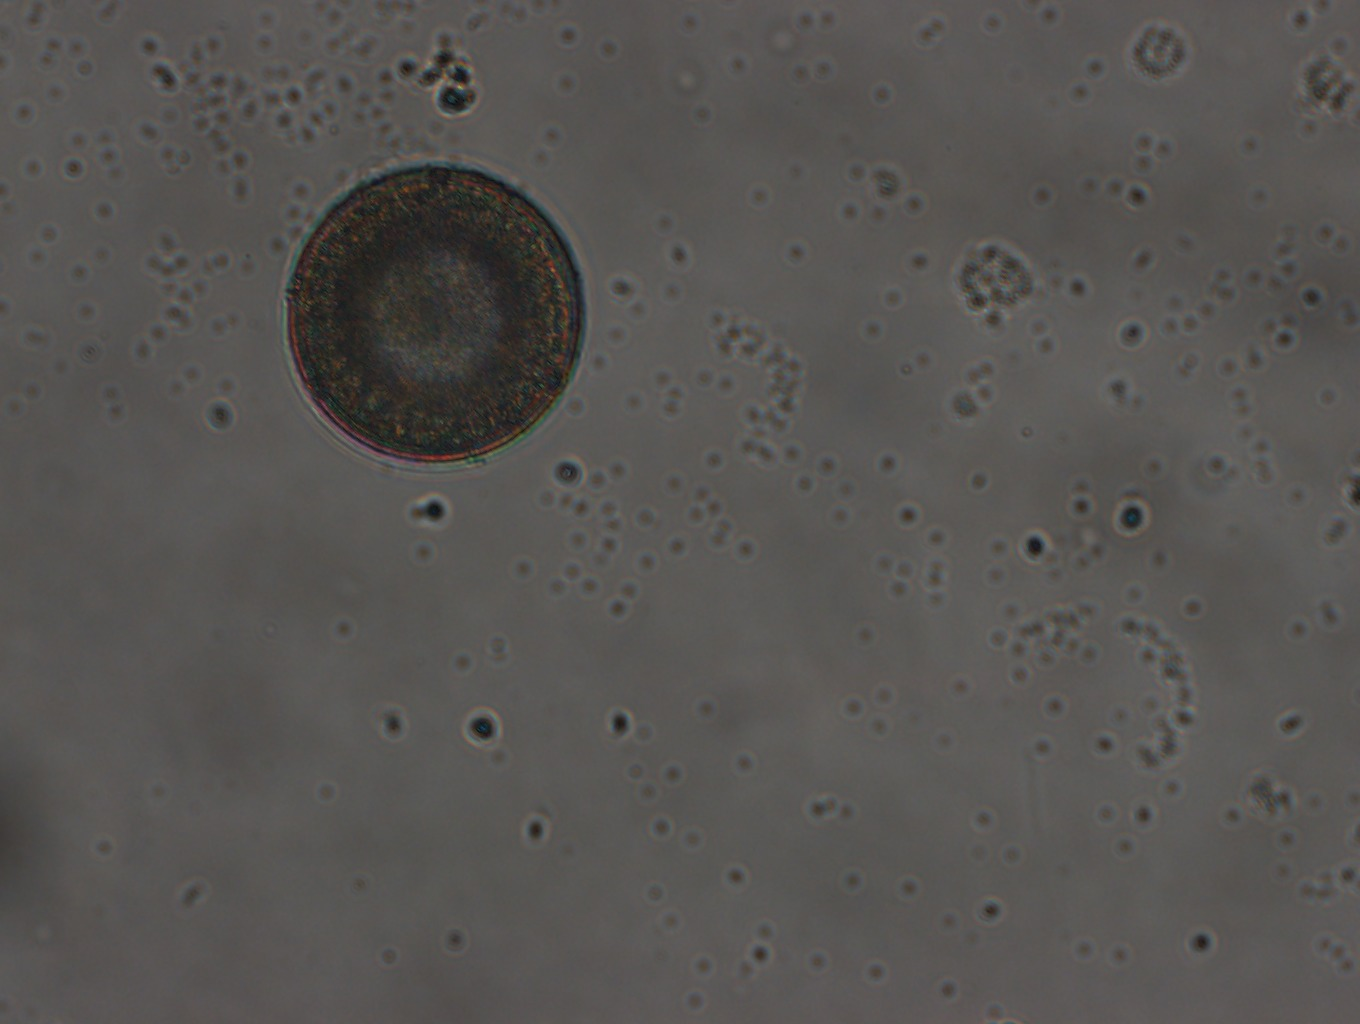coscinodiscus: (284, 157, 590, 470)
